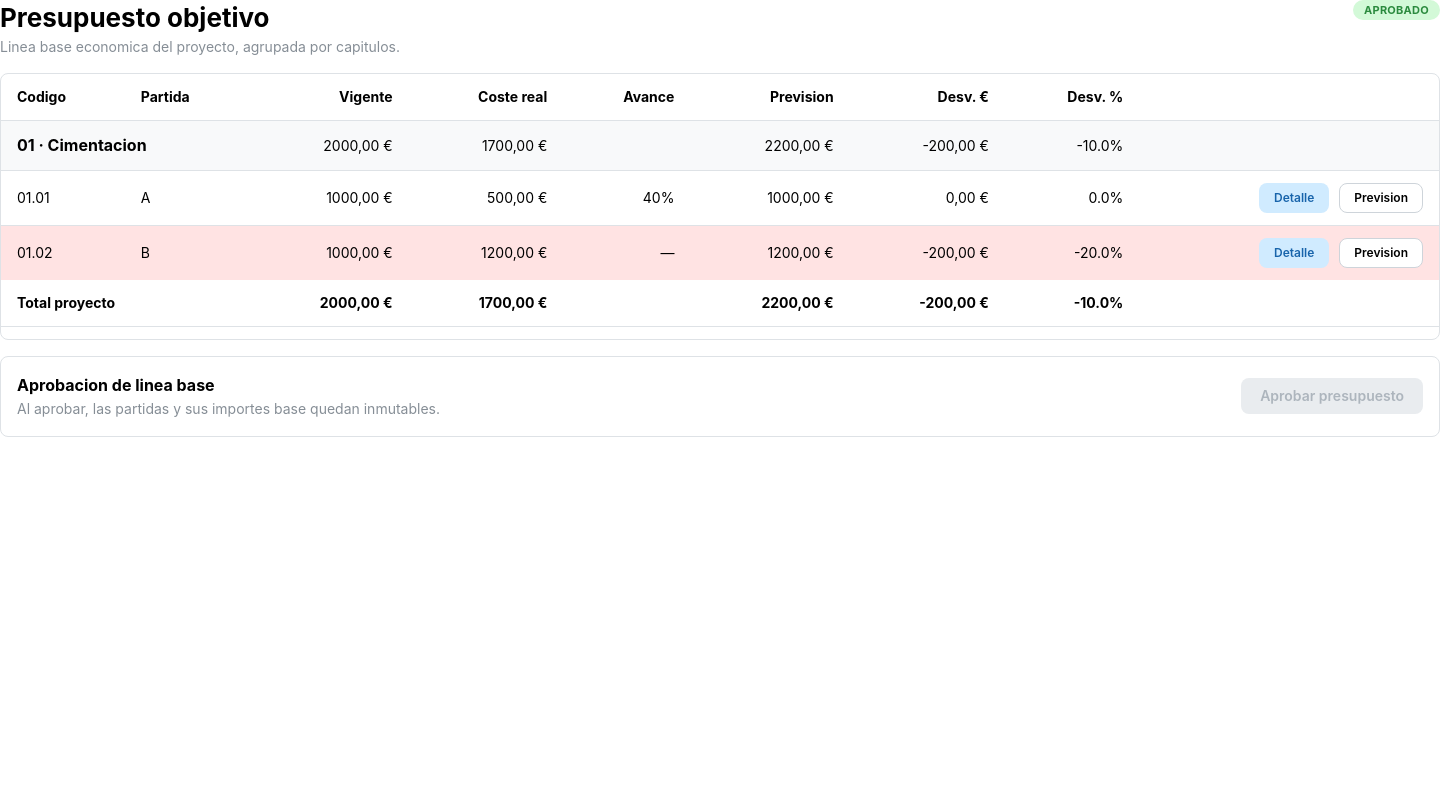
it: ProjectBudgetPage — tabla económica (S15) › refresca la tabla económica al imputar un coste desde el detalle
Click the button "Detalle" in the row of "01.01".
click(1294, 198)  # box [1259, 183, 1329, 213]
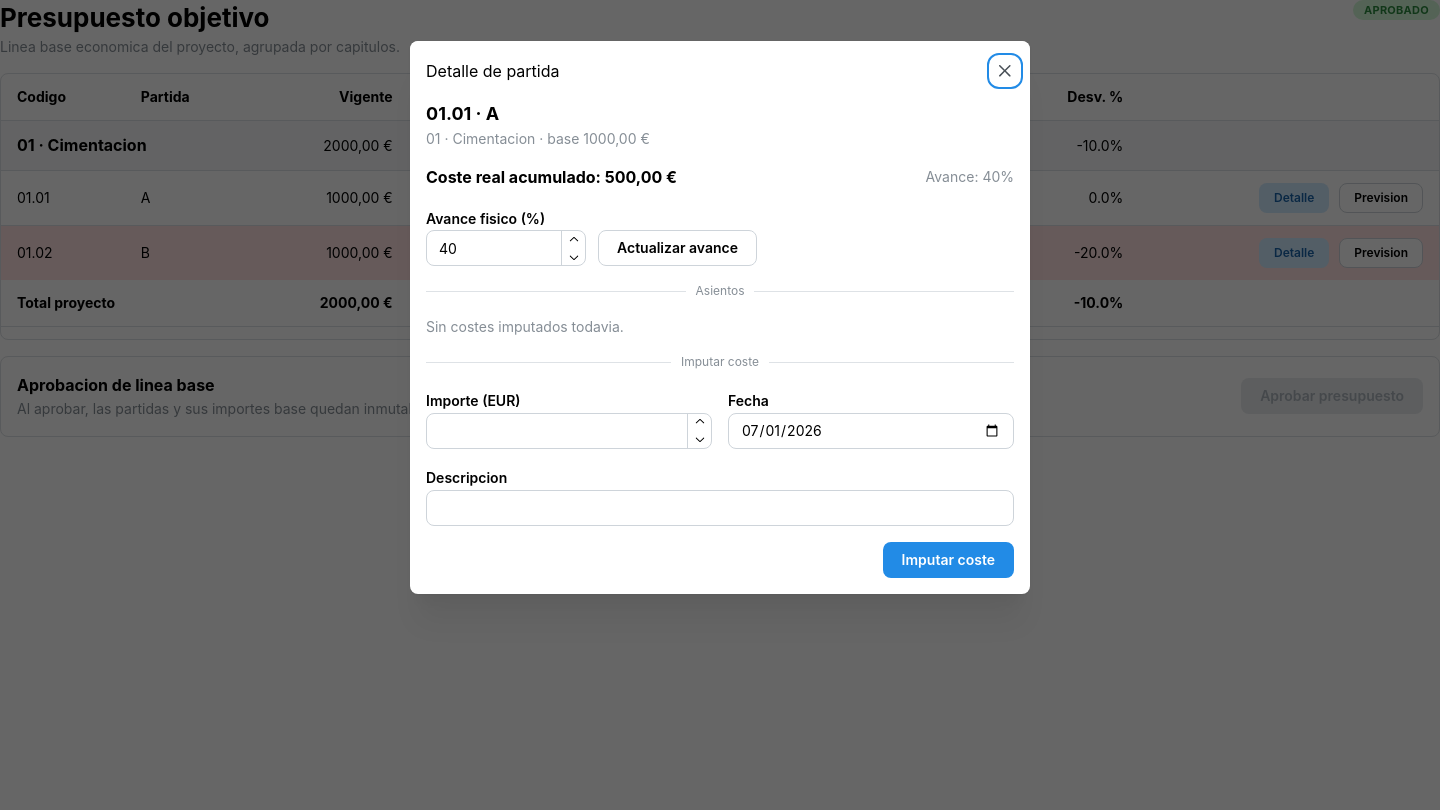
Result: the text "Coste real acumulado: 500,00 €" is shown at [426, 165, 677, 190]
Type "300" into the field labelled "Importe (EUR)".
click(569, 431); type("300")  # box [426, 413, 712, 449]
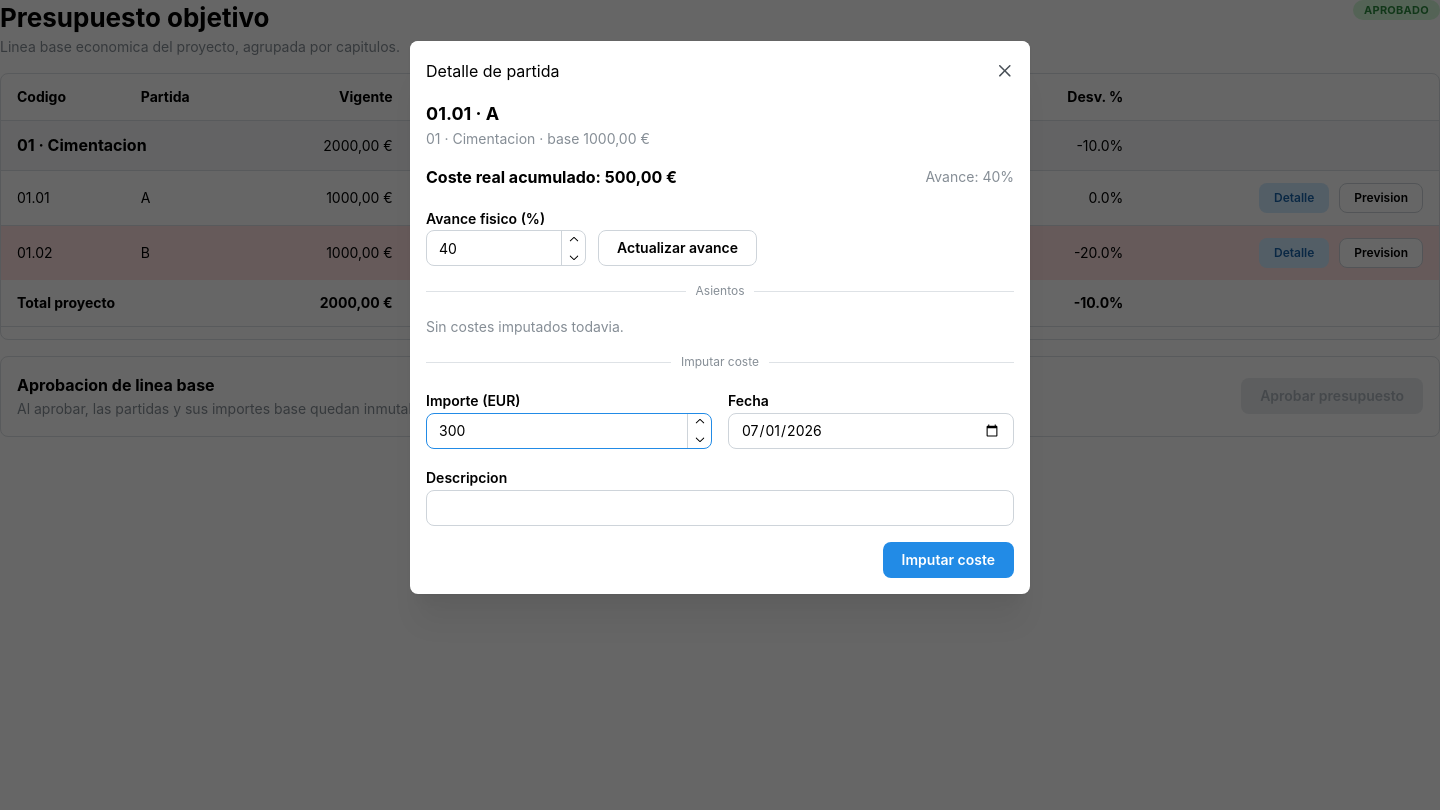
Type "Coste adicional" into the field labelled "Descripcion".
click(720, 508); type("Coste adicional")  # box [426, 490, 1014, 526]
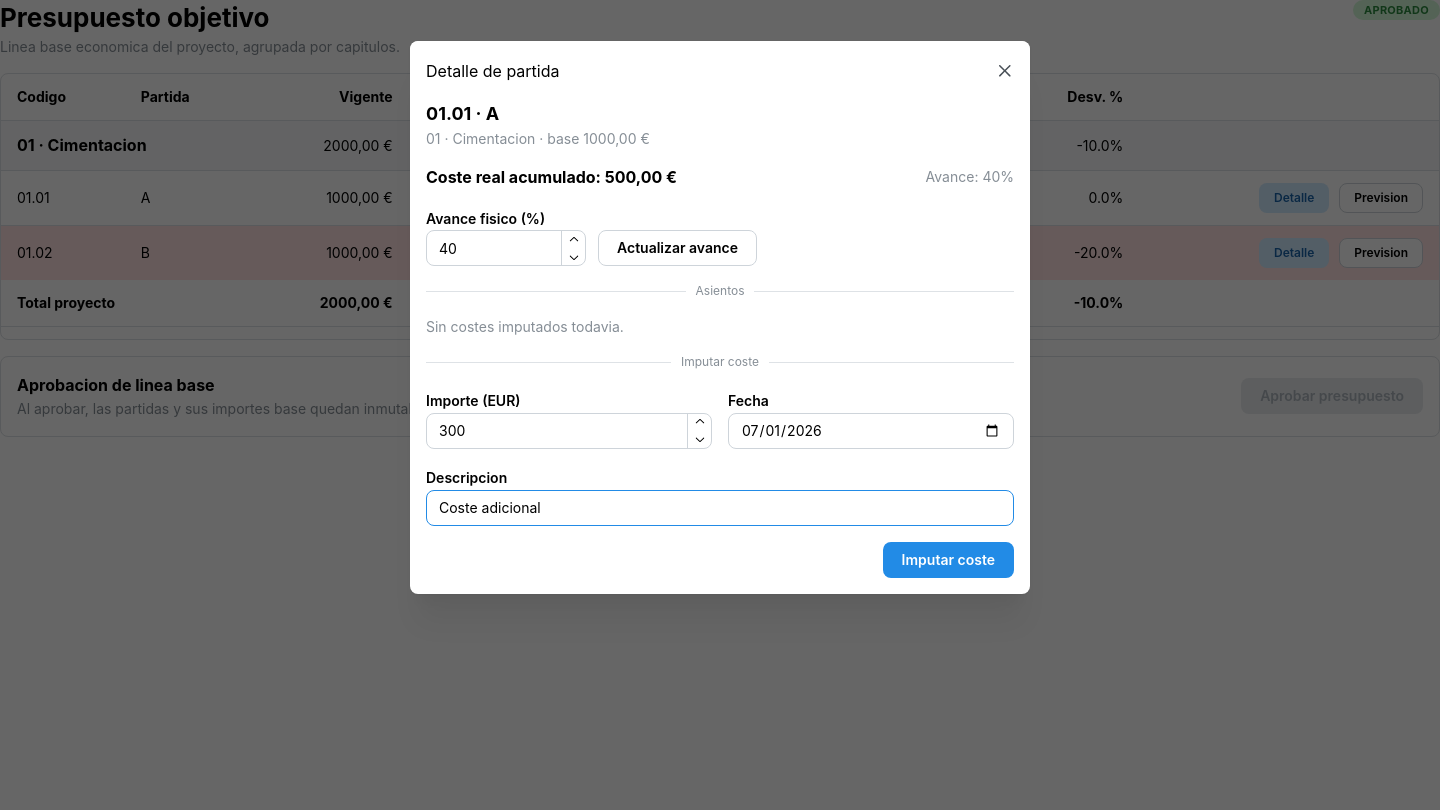
Click the button "Imputar coste".
click(948, 560)  # box [883, 542, 1014, 578]
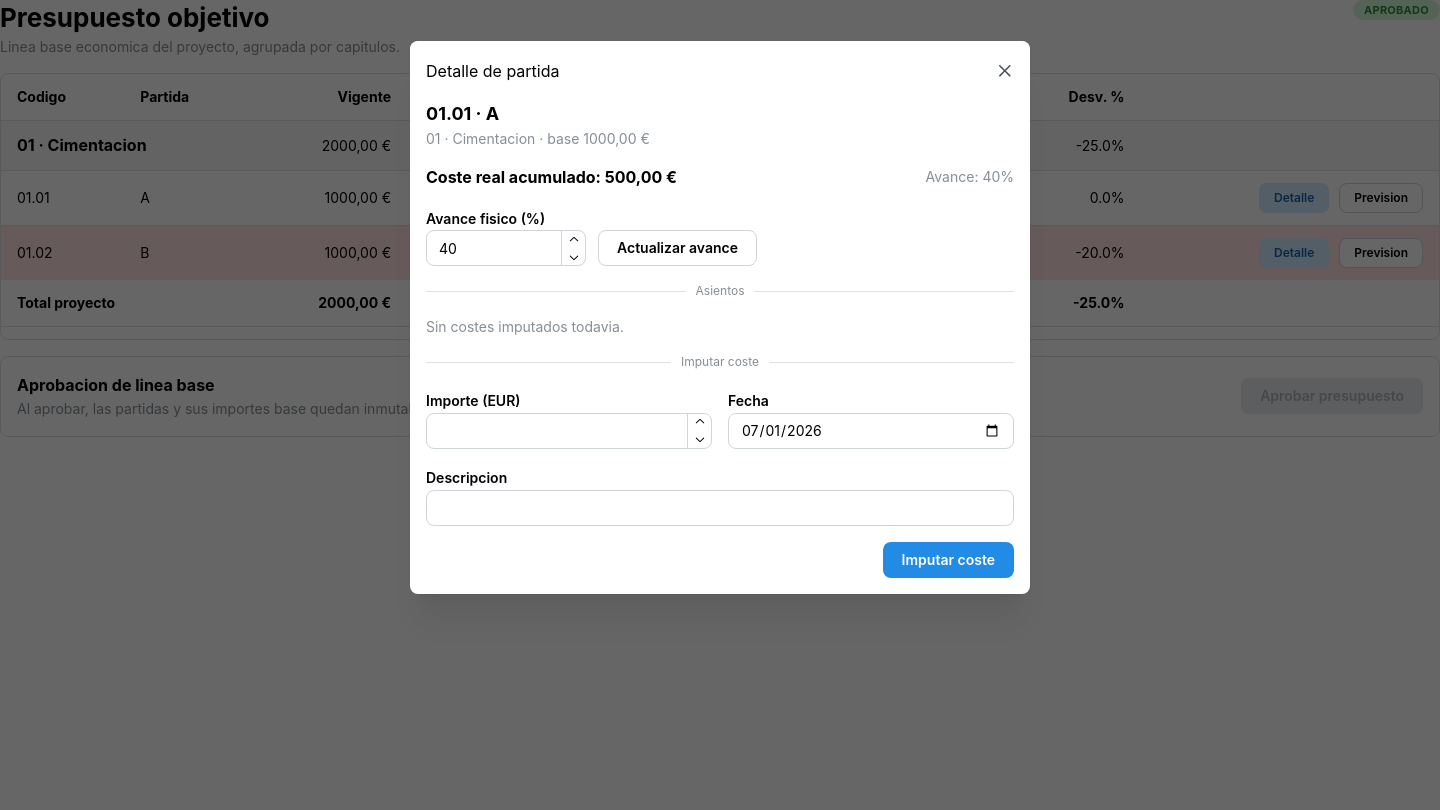
Result: the text "-25.0%" is shown at [1007, 121, 1140, 170]
